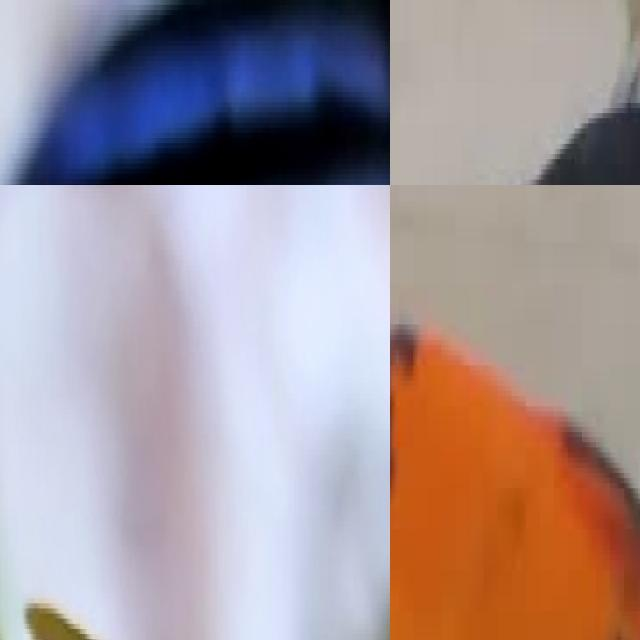fish: (390, 232, 640, 640), (0, 0, 390, 185), (0, 516, 390, 640)
